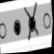correct: (10, 16, 24, 41)
not correct: (21, 0, 42, 43)
